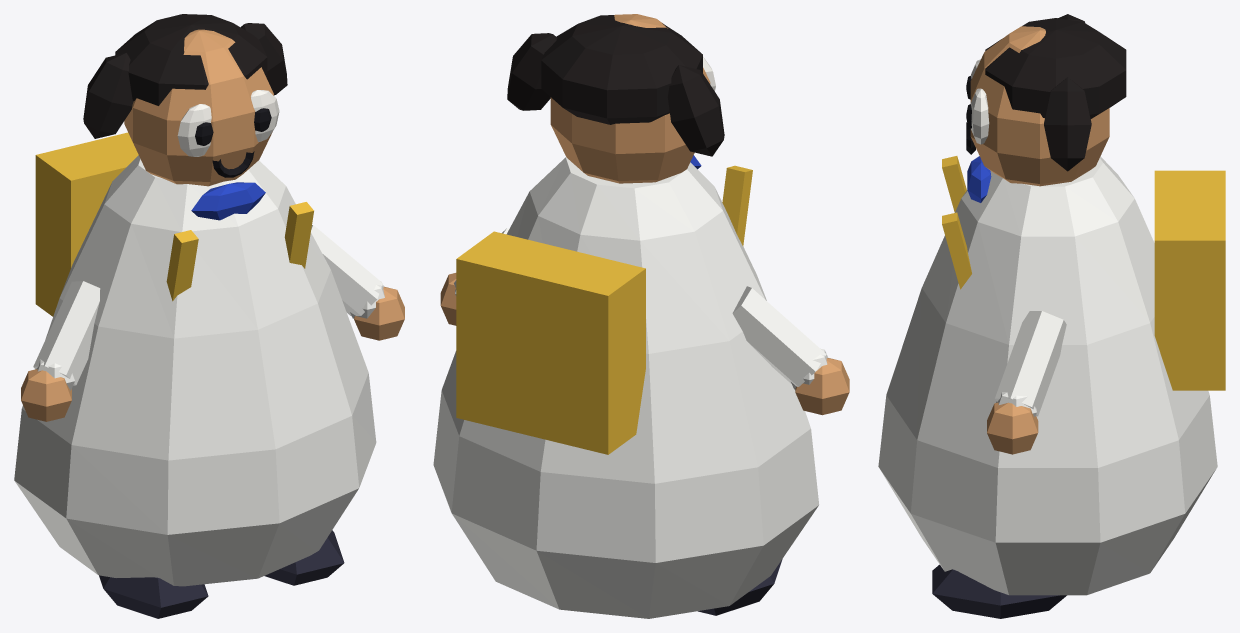
Rendered from npc_alumna_primaria.glb.
3 renders of one model, left to right at view 1: azimuth 30°, elevation 25°; view 2: azimuth 150°, elevation 25°; view 3: azimuth 270°, elevation 25°, orthographic. The views are drawn at different scales.
Parts seen in each view (by area): view 1: body_school_smock, body_bag_yellow, head_skin_arena, head_hair_black, arms_school_smock, legs_school_shoes, arms_skin_arena, face_white, body_smock_bow, face_black; view 2: body_school_smock, body_bag_yellow, head_hair_black, head_skin_arena, arms_school_smock, arms_skin_arena, legs_school_shoes; view 3: body_school_smock, body_bag_yellow, head_hair_black, head_skin_arena, arms_school_smock, legs_school_shoes, arms_skin_arena, face_white, body_smock_bow.
Part boxes in pixels (x1,y1,x2,y2): body_school_smock: (14, 155, 376, 586); body_bag_yellow: (35, 132, 313, 316); head_skin_arena: (124, 29, 273, 186); head_hair_black: (83, 14, 287, 138); arms_school_smock: (33, 225, 384, 390); legs_school_shoes: (99, 530, 344, 618); arms_skin_arena: (21, 286, 404, 421); face_white: (177, 90, 279, 156); body_smock_bow: (191, 182, 265, 220); face_black: (195, 108, 271, 177); body_school_smock: (433, 157, 819, 618); body_bag_yellow: (456, 165, 752, 454); head_hair_black: (507, 15, 724, 156); head_skin_arena: (550, 14, 710, 183); arms_school_smock: (454, 228, 828, 389); arms_skin_arena: (440, 273, 849, 415); legs_school_shoes: (698, 559, 782, 615); body_school_smock: (878, 156, 1217, 595); body_bag_yellow: (942, 156, 1225, 390); head_hair_black: (985, 14, 1126, 171); head_skin_arena: (970, 26, 1109, 186); arms_school_smock: (995, 311, 1066, 416); legs_school_shoes: (932, 564, 1066, 618); arms_skin_arena: (987, 402, 1038, 454); face_white: (970, 59, 989, 144); body_smock_bow: (967, 156, 991, 202).
Size of the model in its own units: 1.13 by 1.53 by 0.88.
